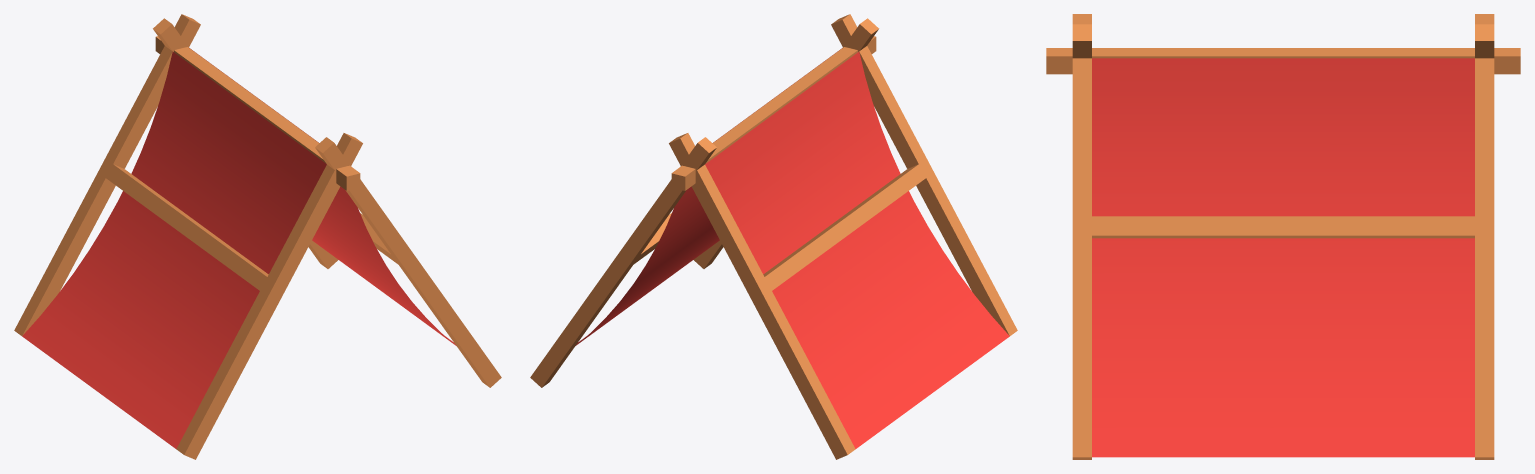
File: tentClosed.fbx
The picture shows the model from 3 angles, left to right: view 1: azimuth 30°, elevation 25°; view 2: azimuth 150°, elevation 25°; view 3: azimuth 270°, elevation 25°; orthographic projection. The views are drawn at different scales.
Visible parts, largest first — view 1: tentClosed; view 2: tentClosed; view 3: tentClosed.
Boxes of the visible parts, x1,y1,x2,y2 form: tentClosed: [14, 14, 501, 459]; tentClosed: [530, 14, 1017, 459]; tentClosed: [1046, 14, 1520, 459].
Bounding box in the file's own units: 5.39 × 4.6 × 5.62.
